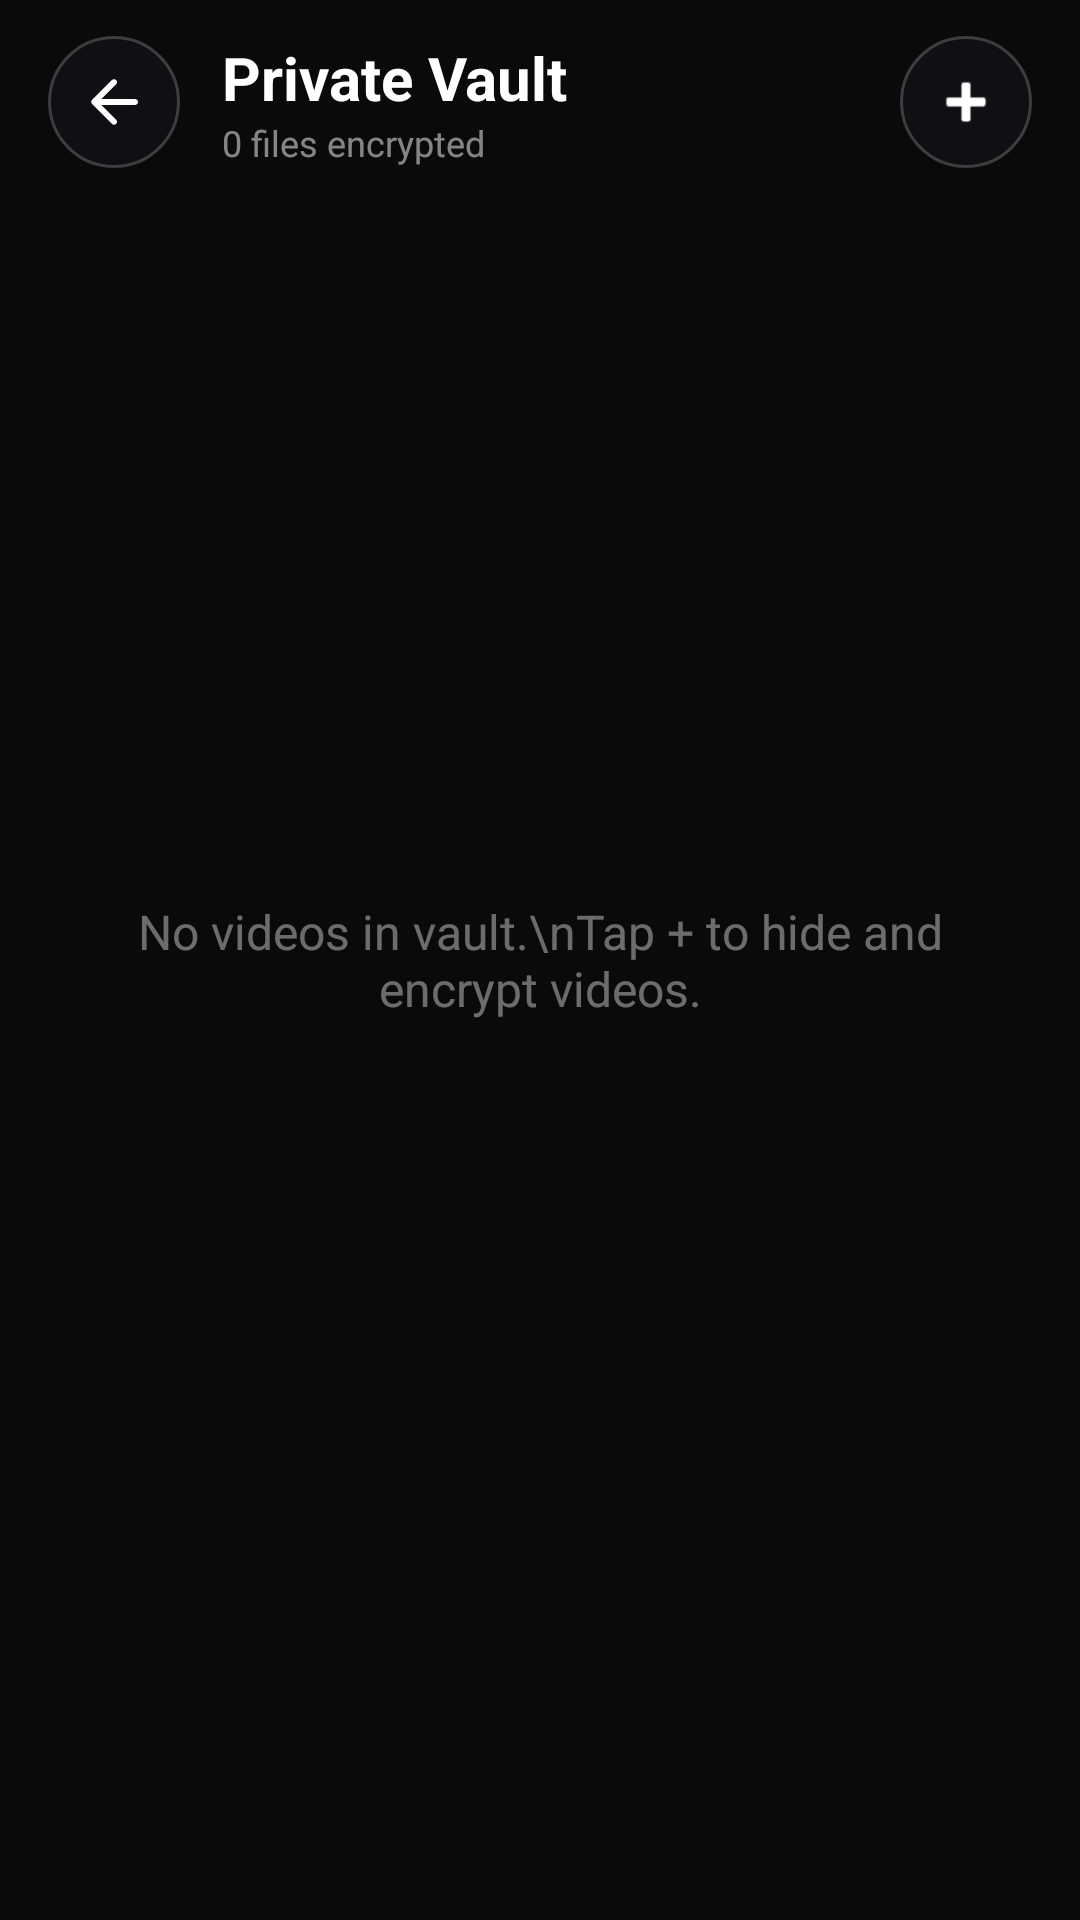

Locate icon controls on the screen. Image size 1080 × 1920, boxes as (x1, y1, x2, y2).
add: (900, 36, 1032, 168)
arrow left: (48, 36, 180, 168)
